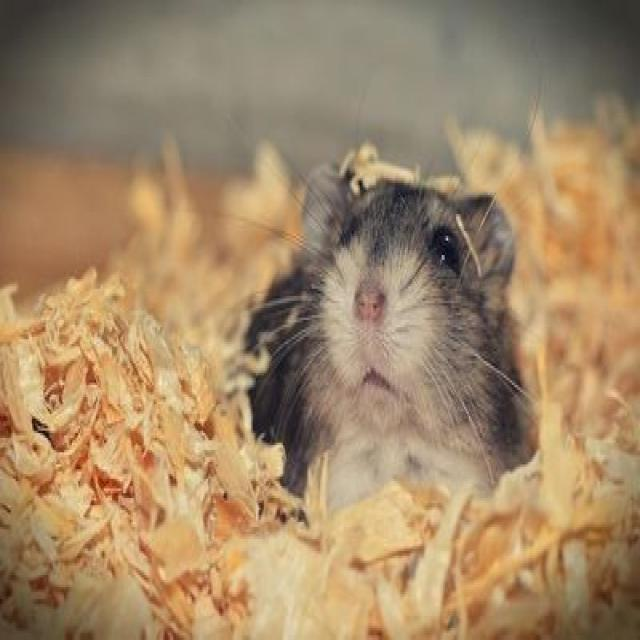hamster: (247, 159, 538, 504)
